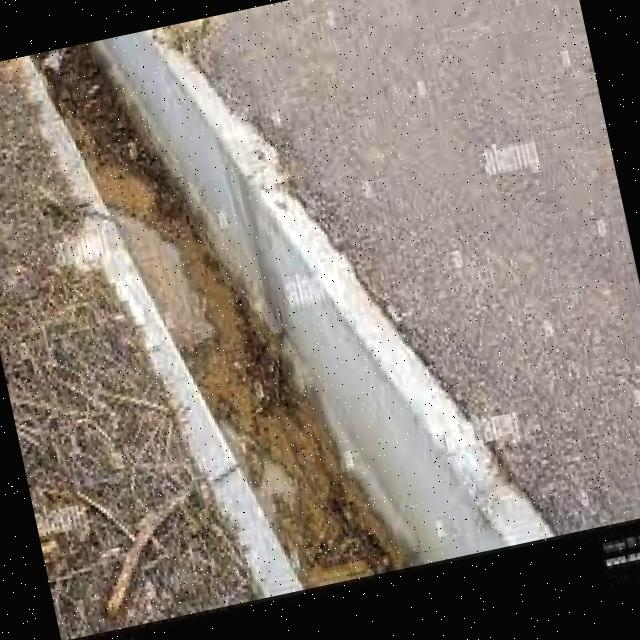curb: (220, 193, 446, 495), (83, 13, 271, 231)
